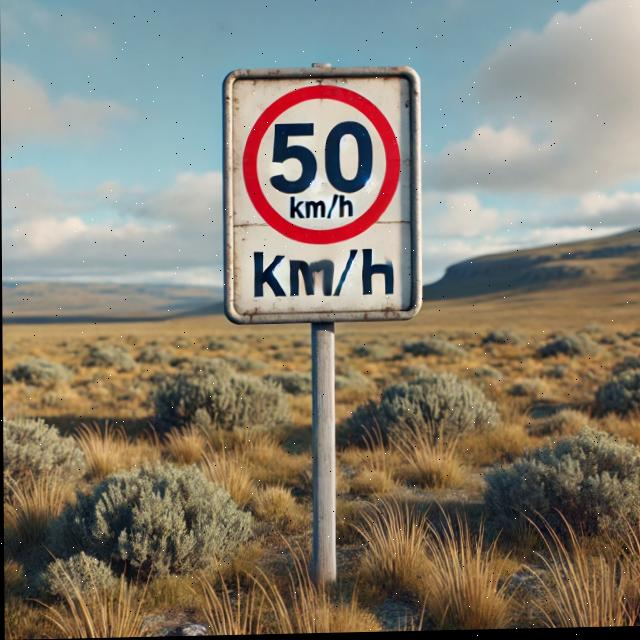Speed limit 50: (242, 84, 403, 249)
